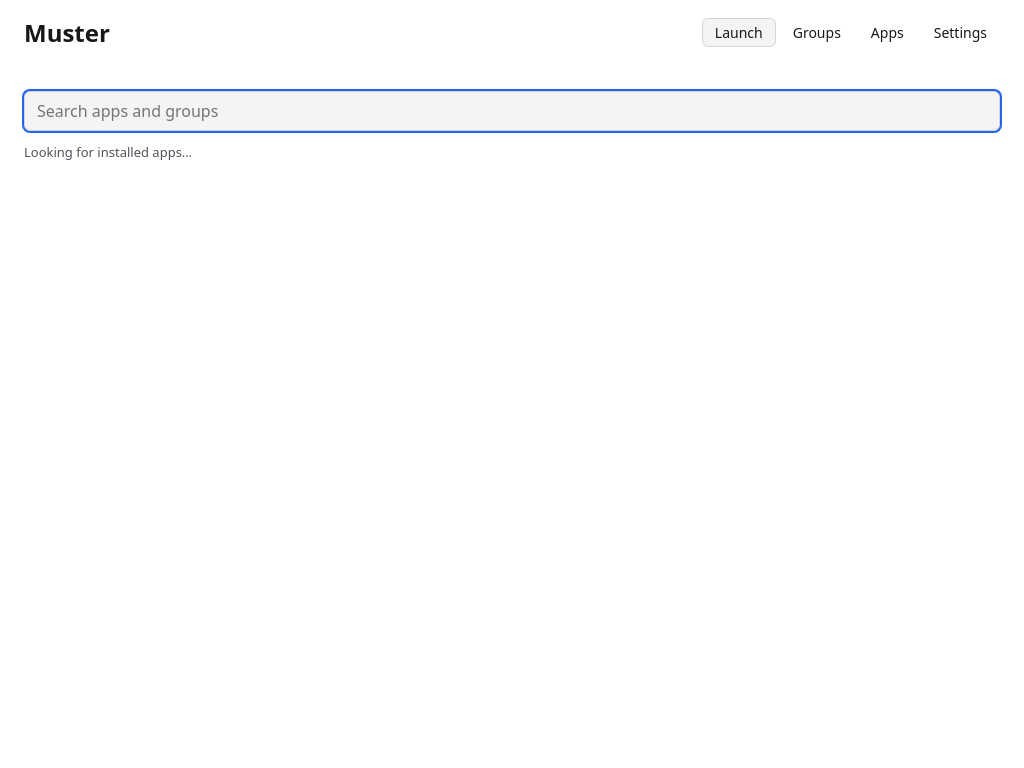
Test: App › shows the core's message when a launch fails
The width and height of the screenshot is (1024, 768).
In the search field: (512, 111) [24,91,1000,131], type "backup"
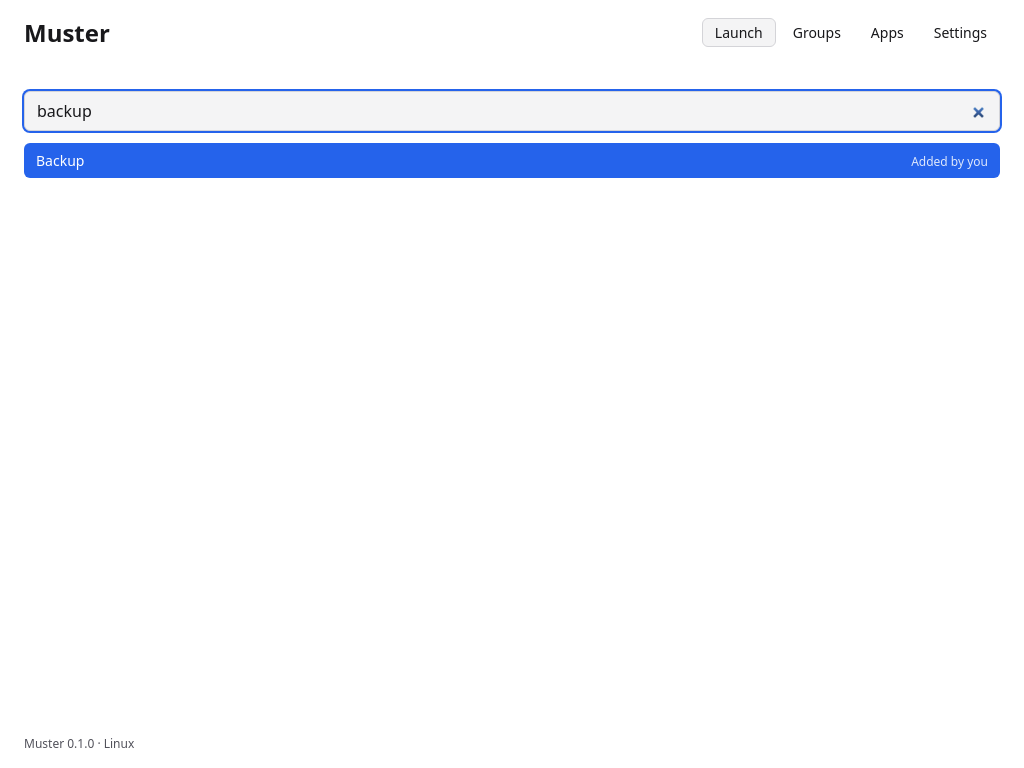
expect the text "Backup" is shown: met, box [36,151,84,170]
Press Enter in the search field, box [24,91,1000,131]
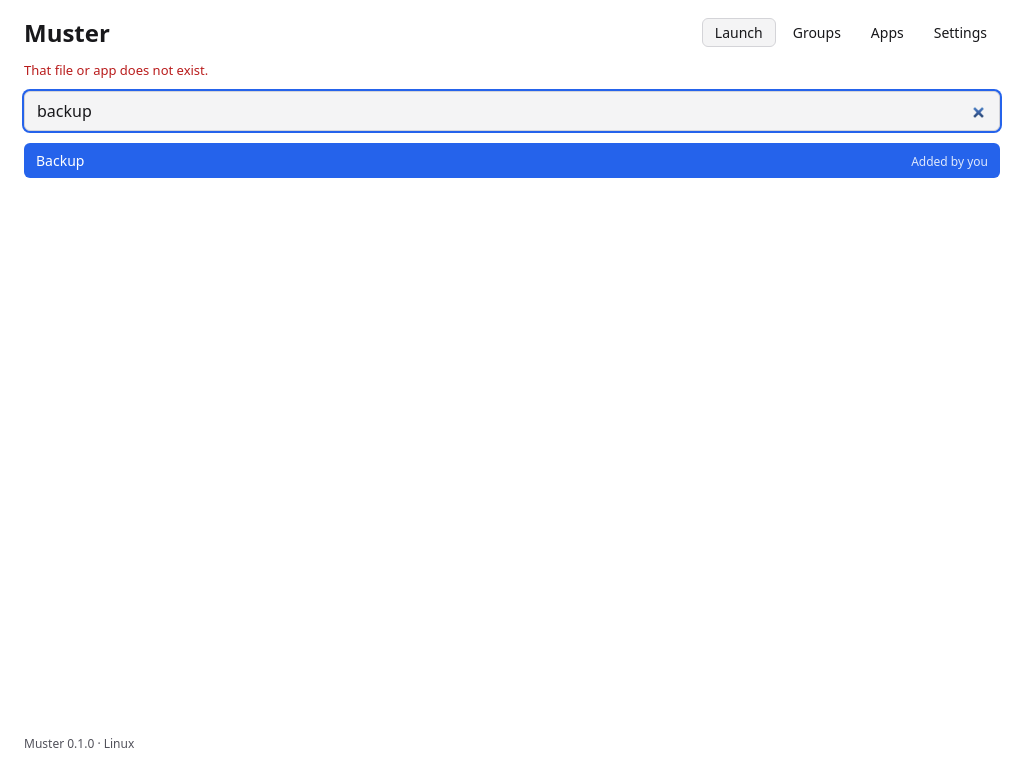
expect the message reads "That file or app does not exist.": met, box [24,61,208,79]
